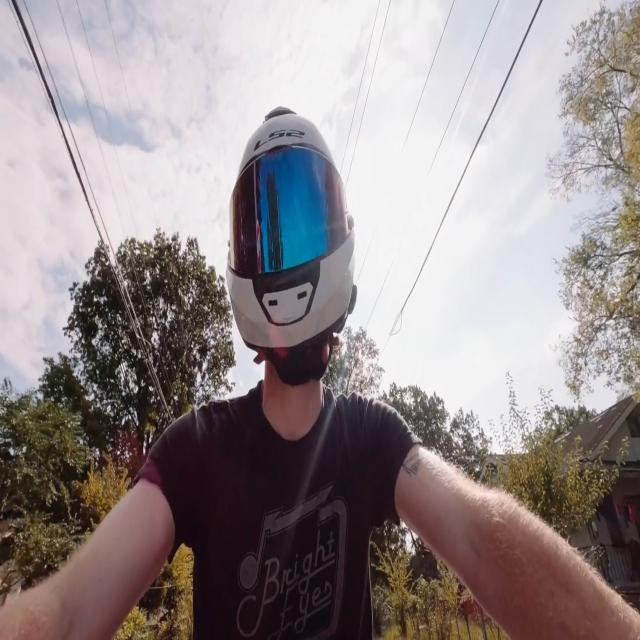Helmet_Wearer: (217, 101, 358, 401)
Person: (8, 99, 627, 640)
